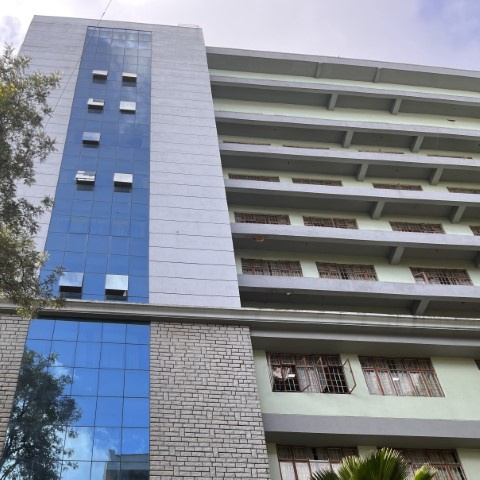Central Block: (29, 7, 480, 480)
